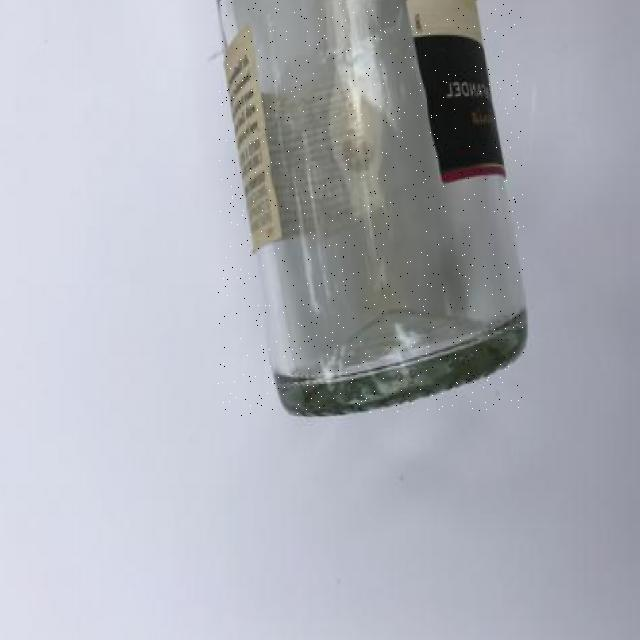glass: (219, 1, 524, 415)
